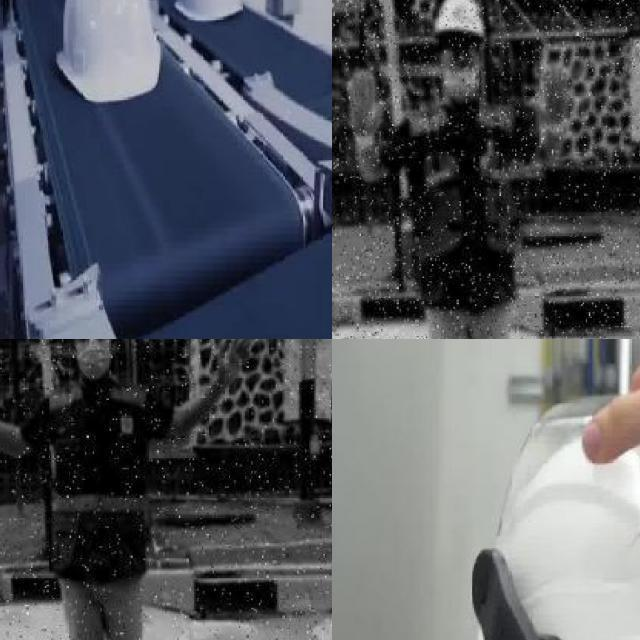apron: (342, 70, 386, 150), (530, 60, 572, 136)
